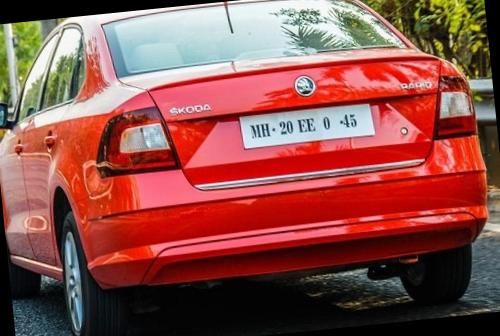plate: (230, 88, 385, 163)
